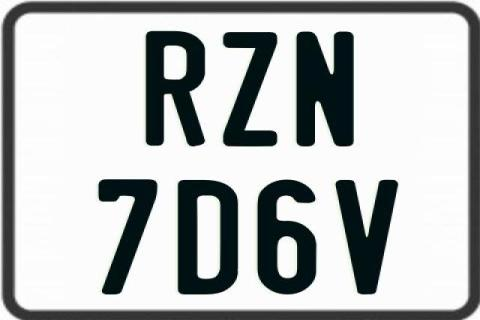0: (256, 179, 321, 299), (96, 178, 161, 294)
D: (175, 179, 236, 295)
N: (294, 31, 354, 149)
R: (146, 31, 208, 149)
V: (335, 179, 398, 295)
Z: (224, 32, 280, 146)
